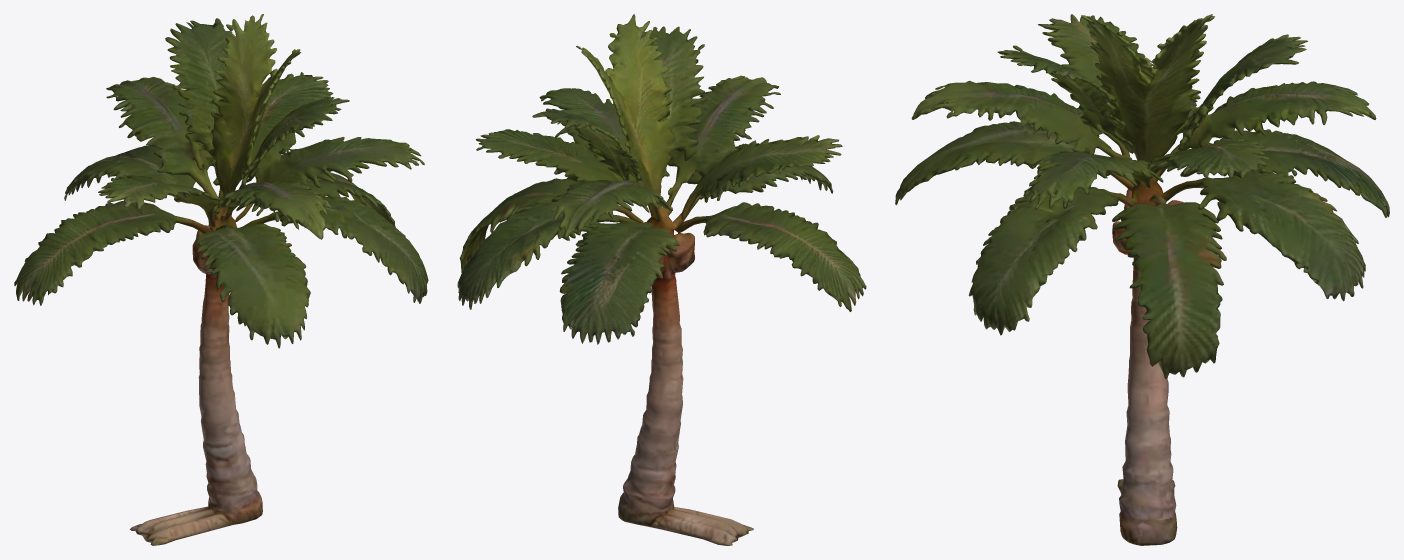
File: tree_palm.glb
3 renders of one model, left to right at view 1: azimuth 30°, elevation 25°; view 2: azimuth 150°, elevation 25°; view 3: azimuth 270°, elevation 25°, orthographic. The views are drawn at different scales.
Visible parts, largest first — view 1: tripo_node_c1a36999-0d34-4e9c-9d63-5793e239d685; view 2: tripo_node_c1a36999-0d34-4e9c-9d63-5793e239d685; view 3: tripo_node_c1a36999-0d34-4e9c-9d63-5793e239d685.
Boxes of the visible parts, x1,y1,x2,y2 form: tripo_node_c1a36999-0d34-4e9c-9d63-5793e239d685: [14, 14, 428, 545]; tripo_node_c1a36999-0d34-4e9c-9d63-5793e239d685: [457, 14, 866, 545]; tripo_node_c1a36999-0d34-4e9c-9d63-5793e239d685: [895, 14, 1389, 545].
Bounding box in the file's own units: 0.7846 × 0.9452 × 0.784.
1 material, 1 textured.
